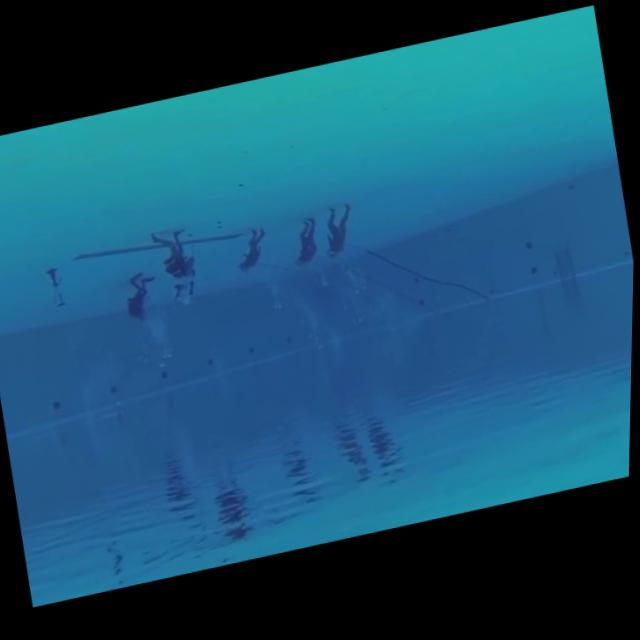human: (143, 218, 208, 295), (313, 198, 367, 273), (117, 265, 167, 338), (229, 220, 279, 288), (284, 206, 330, 275)
